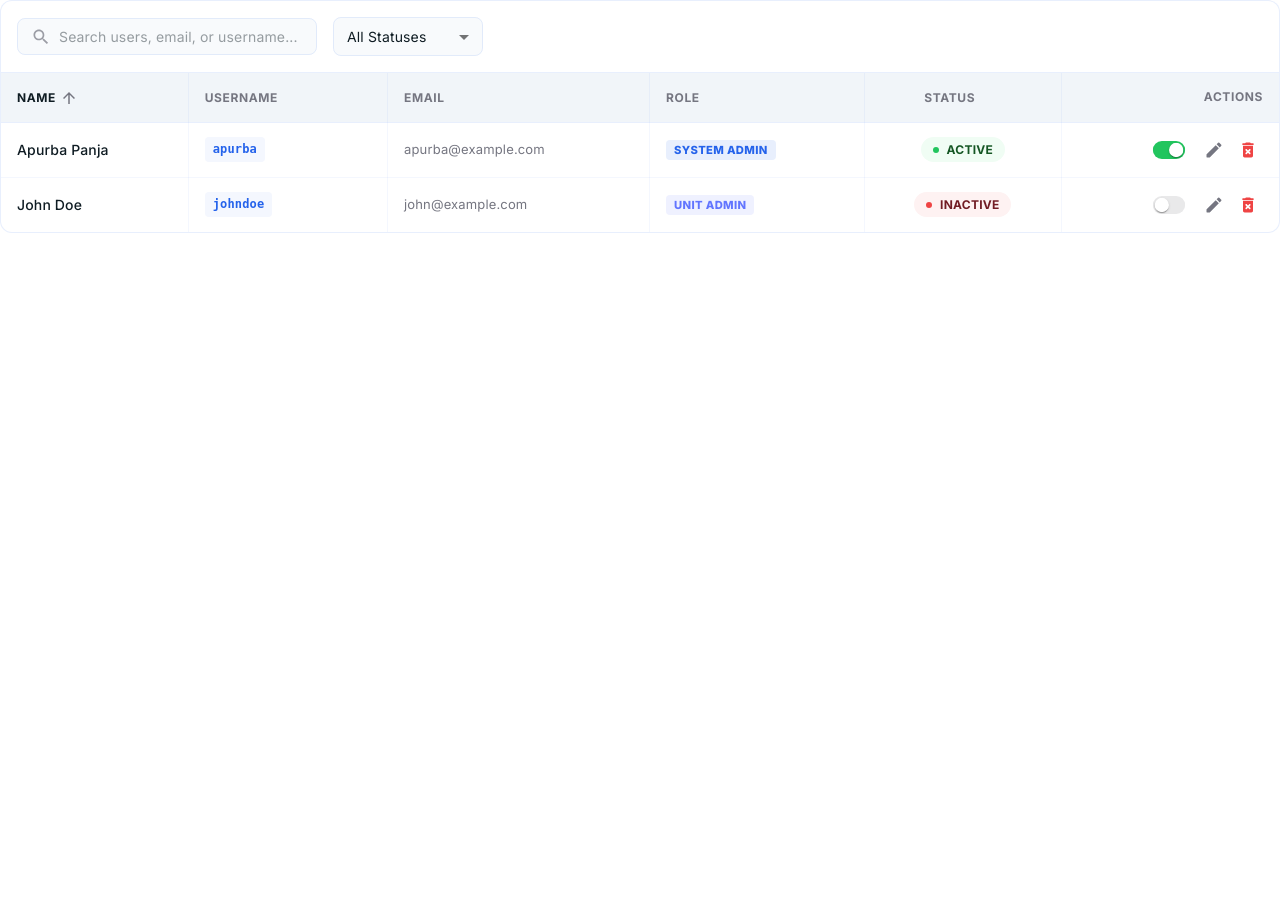
UsersTable › opens delete confirmation modal and requires username input
Step 1. Click the button named "delete permanently" in the row of "Apurba Panja" → (1248, 150), box 1233,135 -> 1263,165
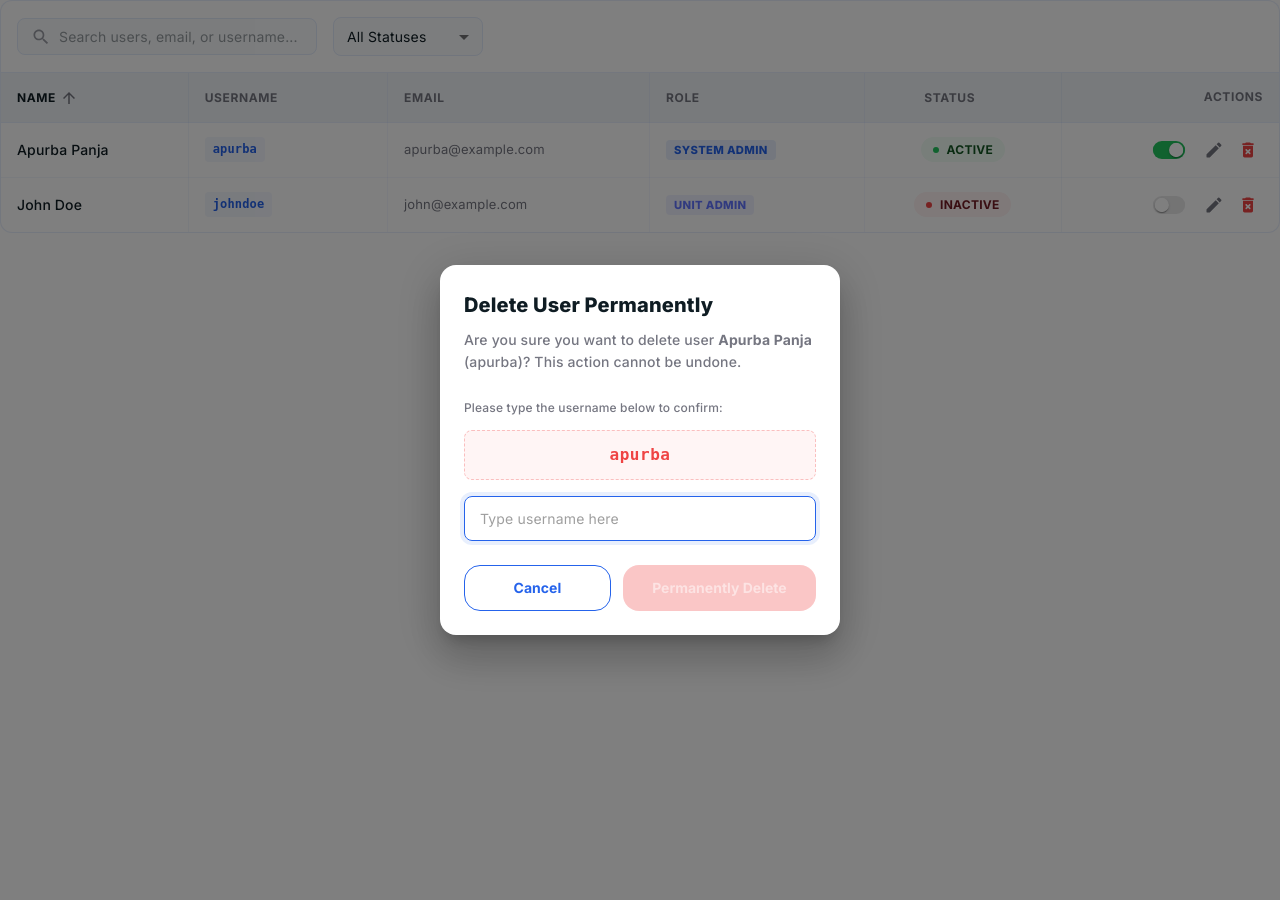
Check: the heading "Delete User Permanently" is shown, box 464,293 -> 713,317
Check: the text "Please type the username below to confirm:" is shown, box 464,400 -> 723,415
Check: the button "Permanently Delete" is disabled, box 623,565 -> 816,611
Step 2. Type "apurba" into the field with placeholder "Type username here" → (640, 518), box 476,496 -> 804,541
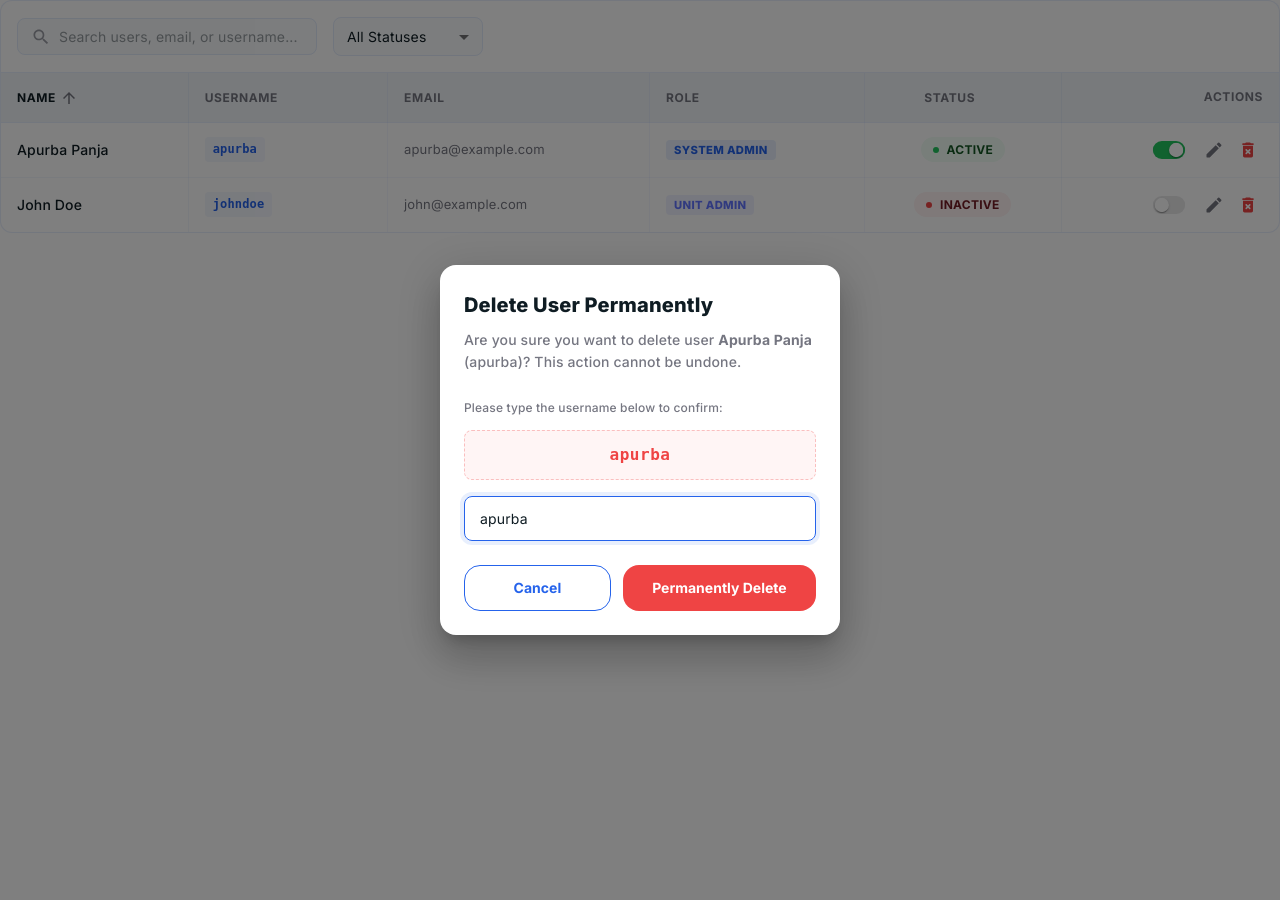
Check: the button "Permanently Delete" is enabled, box 623,565 -> 816,611
